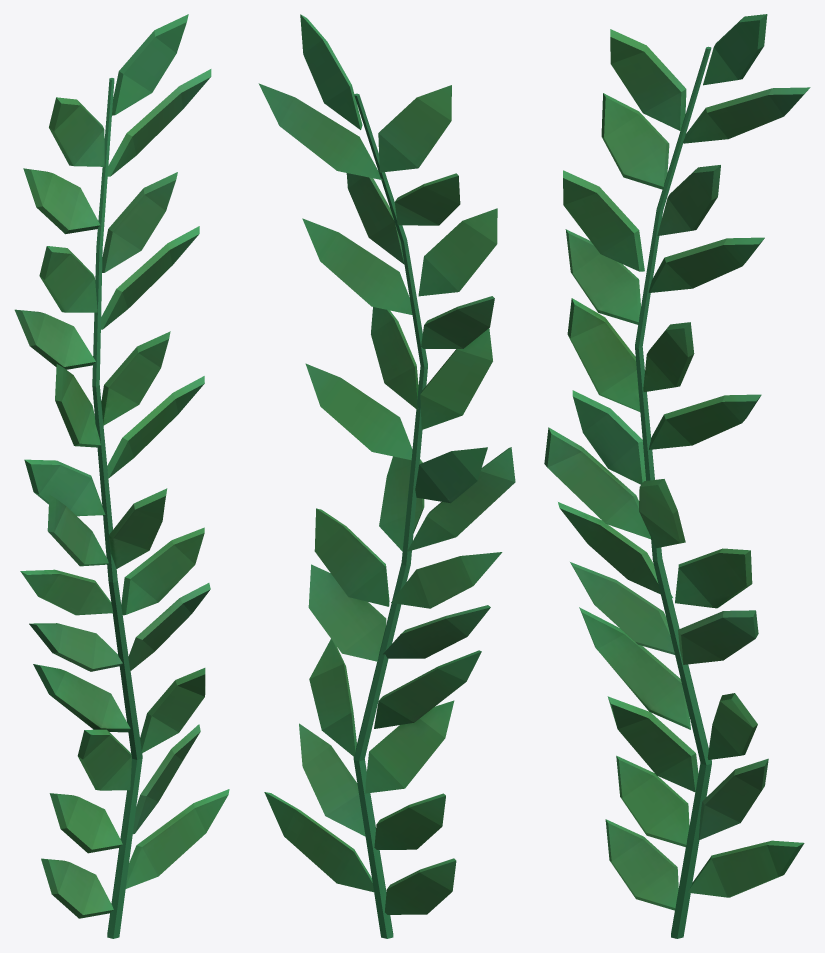
Rendered from eI7GSQpnVUL.glb.
3 views of the same model, side by side, from view 1: azimuth 30°, elevation 25°; view 2: azimuth 150°, elevation 25°; view 3: azimuth 330°, elevation 25° (orthographic). The views are drawn at different scales.
Parts seen in each view (by area): view 1: Kelp_mesh; view 2: Kelp_mesh; view 3: Kelp_mesh.
Part boxes in pixels (x1,y1,x2,y2): Kelp_mesh: (14,14,229,938); Kelp_mesh: (258,14,515,938); Kelp_mesh: (544,14,810,938).
Bounding box in the file's own units: 0.2597 × 1 × 0.1111.
1 material, 1 textured.
